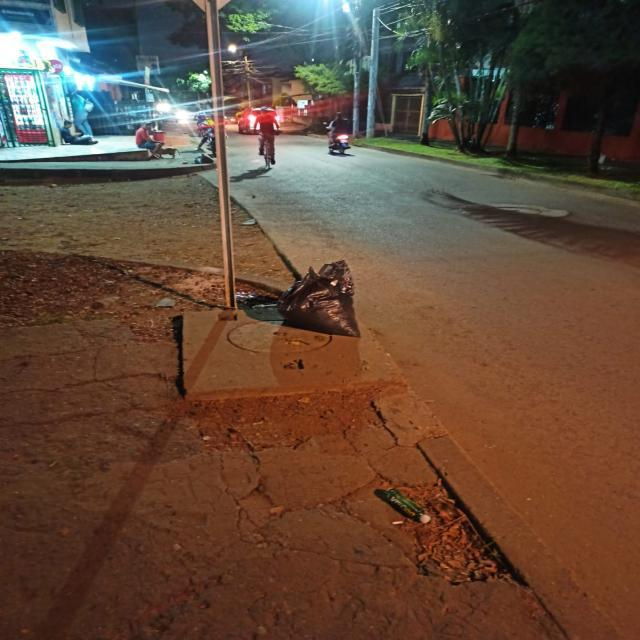Trashbag: (282, 264, 360, 336)
